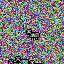sheep: (26, 28, 40, 40), (14, 55, 30, 64), (28, 59, 44, 64), (7, 58, 15, 64)
